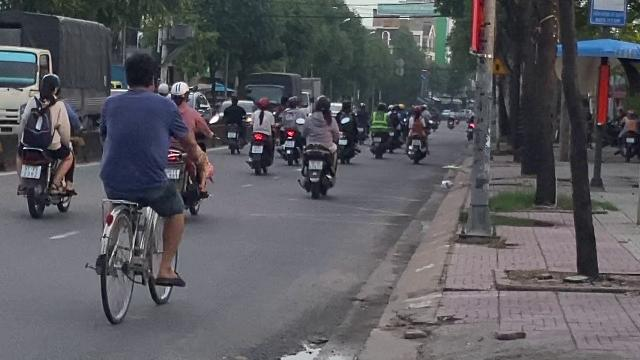licenseplate: (20, 165, 40, 177)
motorcyclist: (13, 71, 79, 219)
nohelmet: (36, 72, 60, 102)
